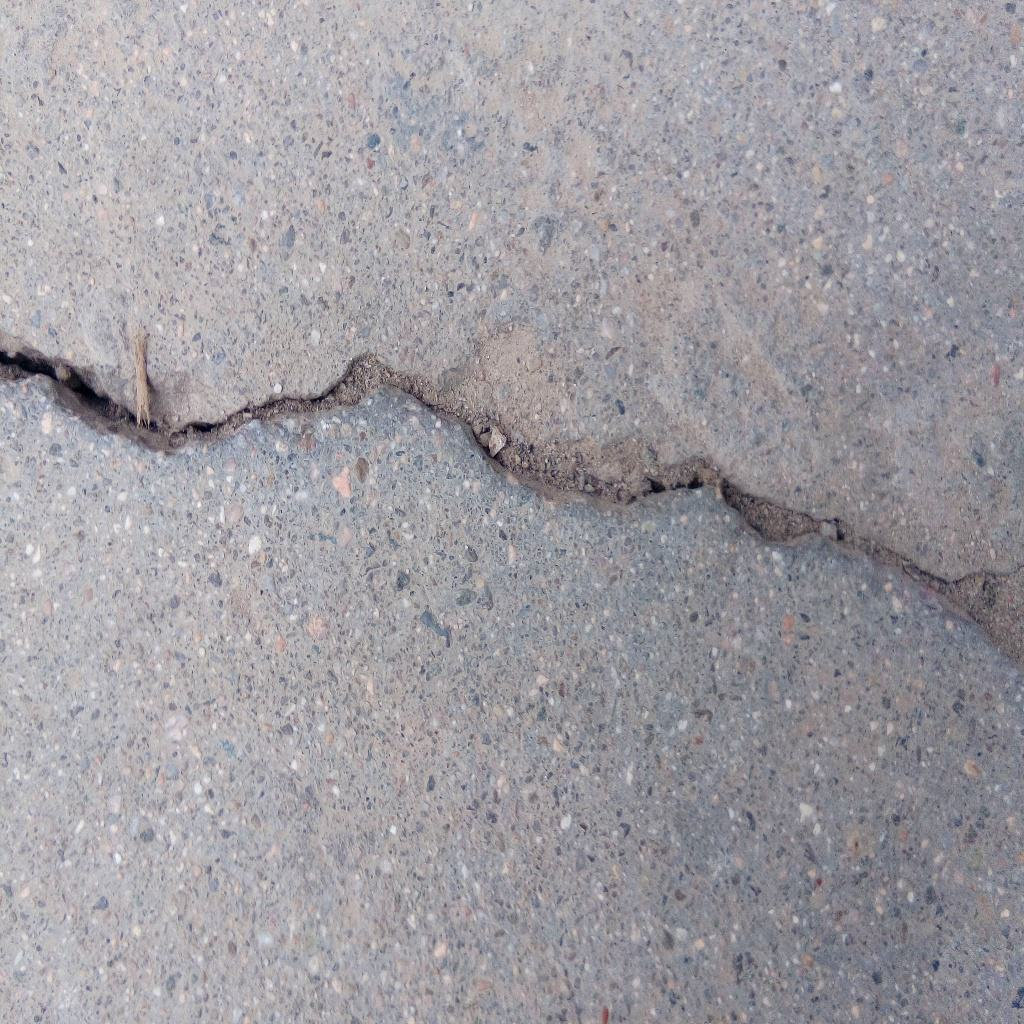Crack: (1, 346, 1024, 664)
